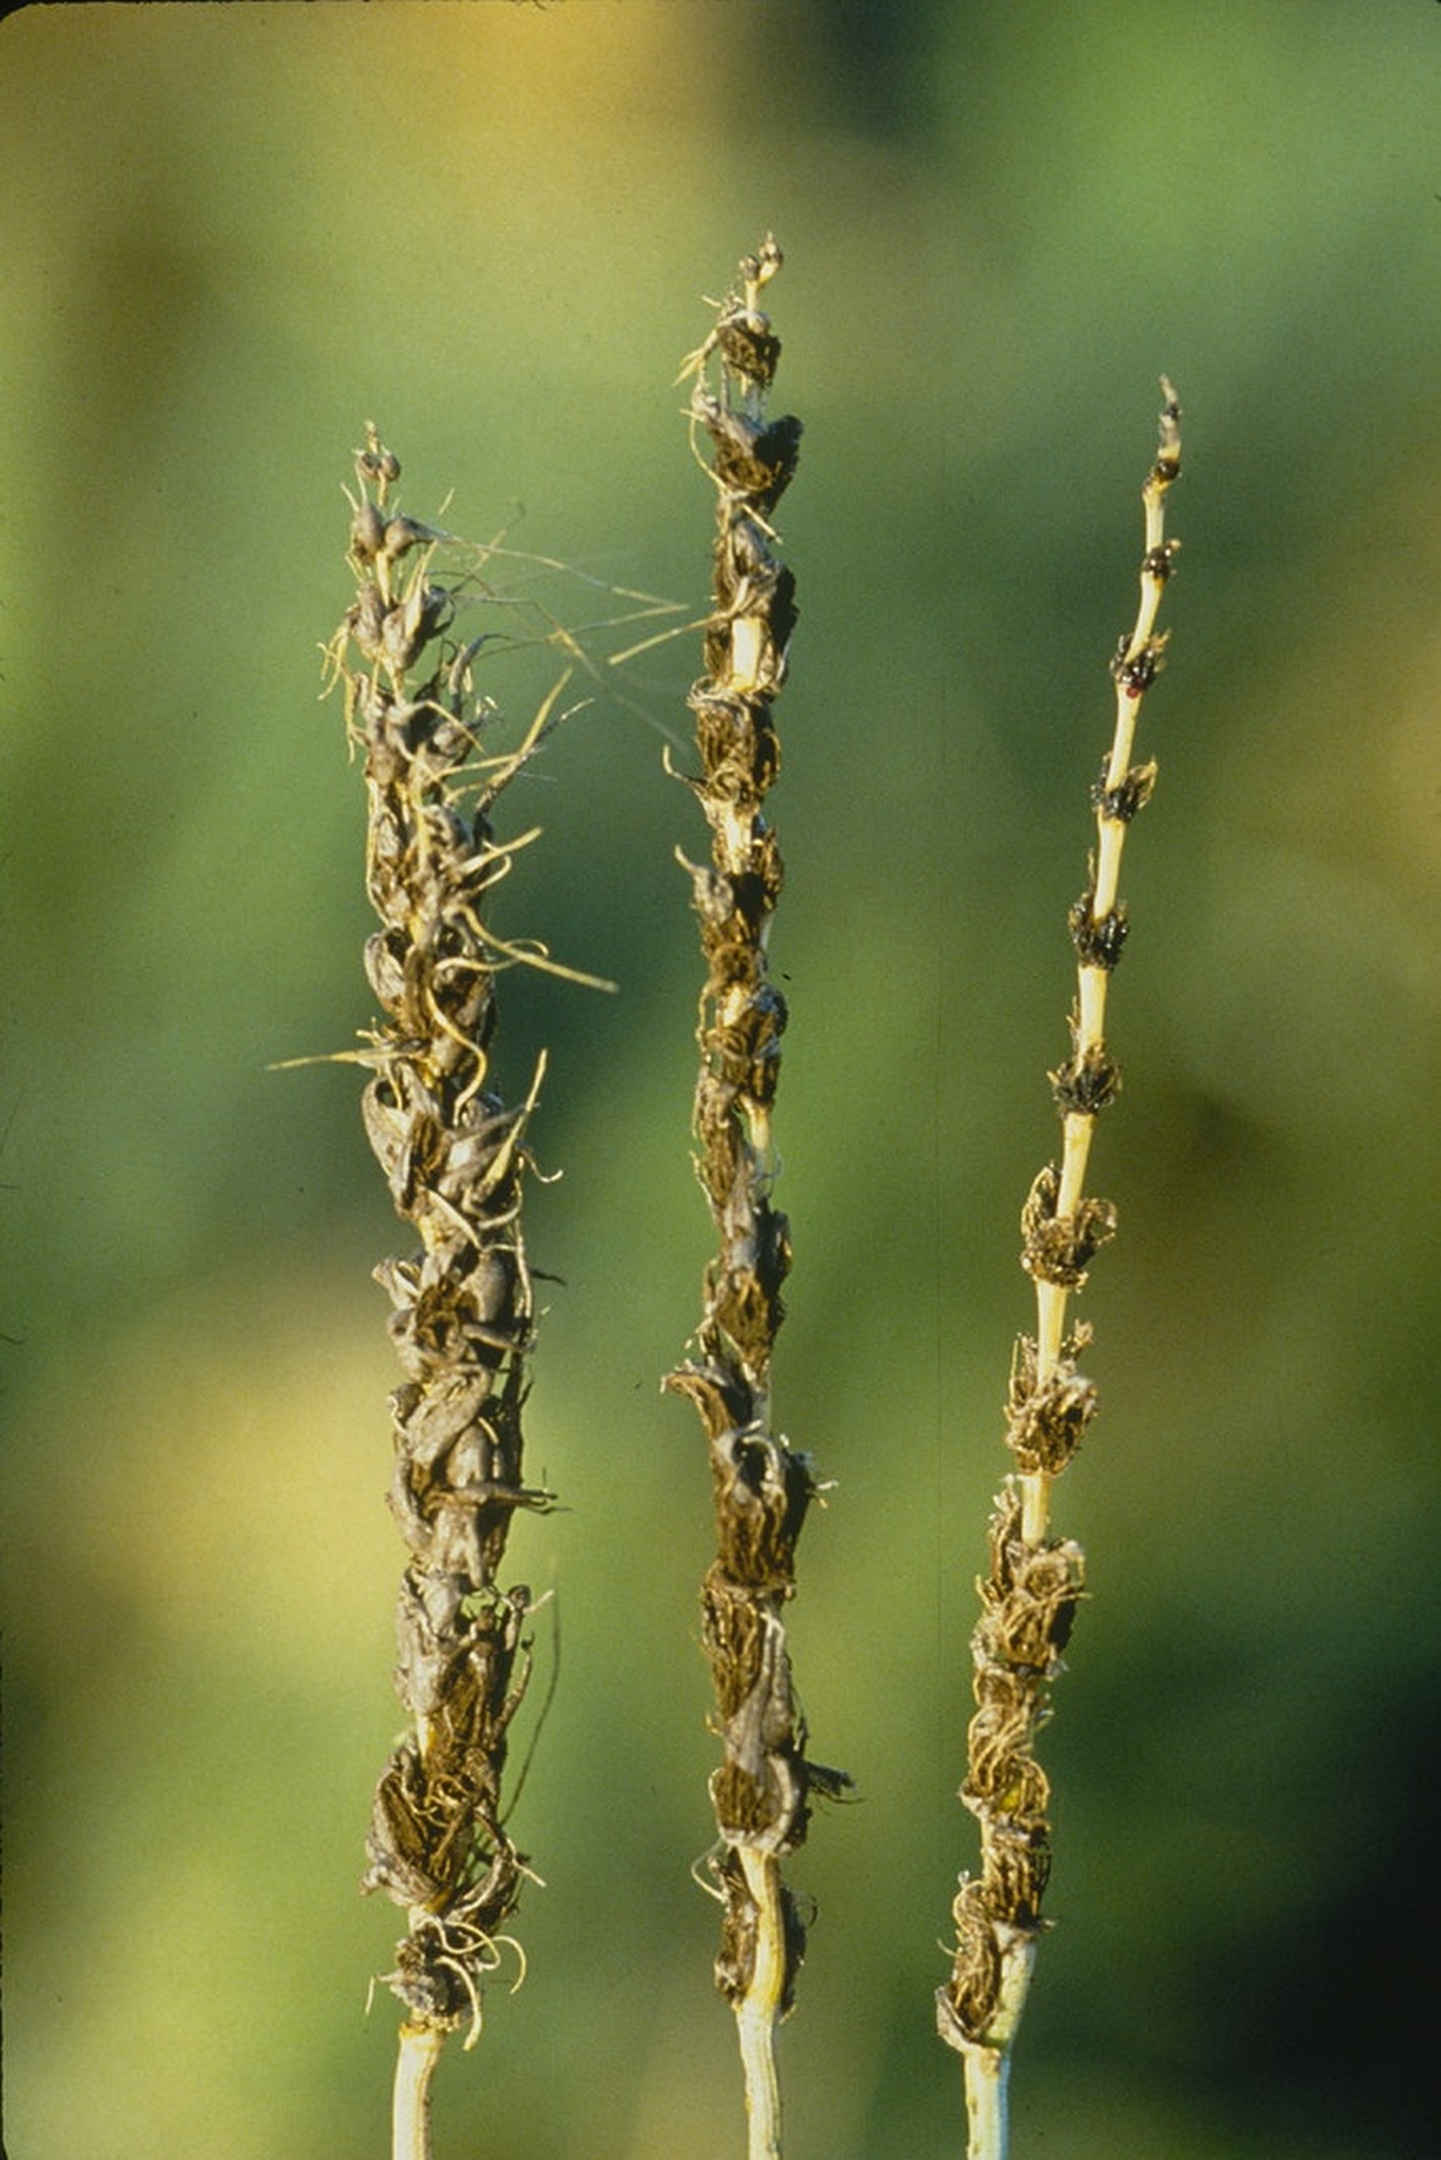Wheat Loose Smut: (172, 275, 939, 1998)
